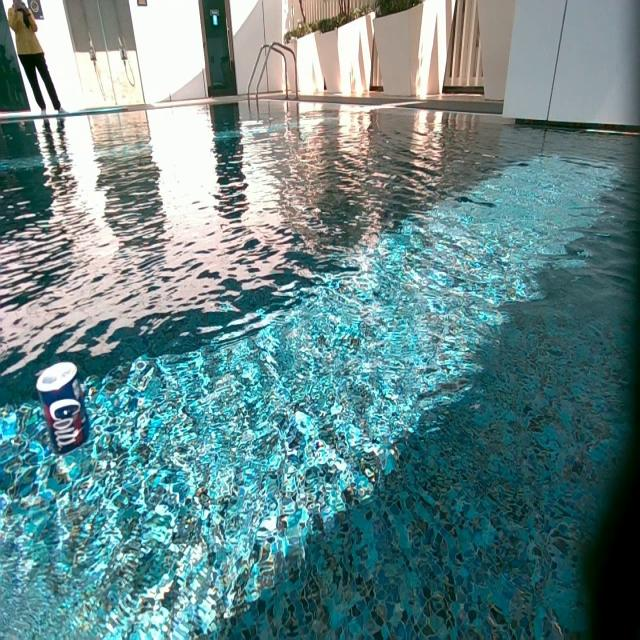Cans: (37, 357, 90, 433)
